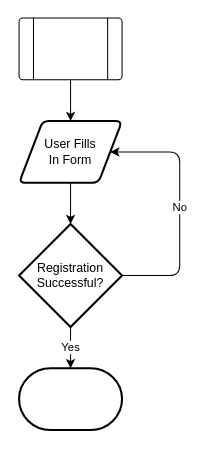
Image size: 206x449. Some labels were removed from this diagram. Here are the shapes that lost their labels. From the top down, the centre of each, then its label:
the point at 70,48: Register Page
the point at 70,399: Stop
